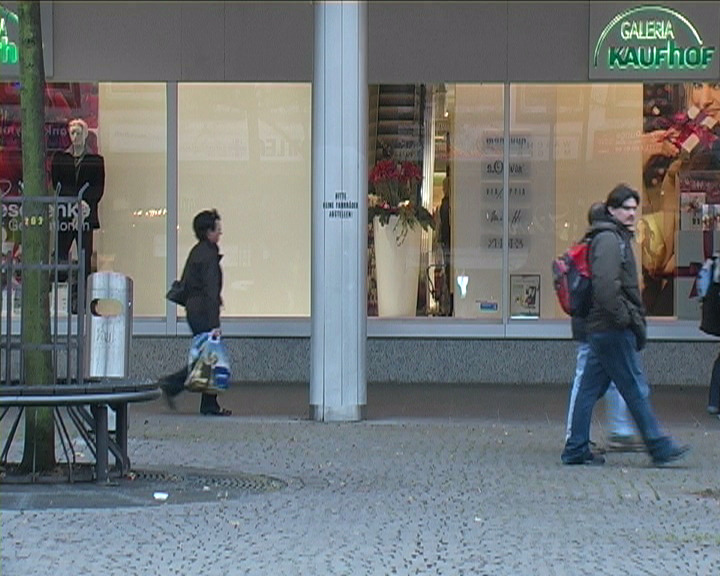deflection: (580, 179, 658, 298)
